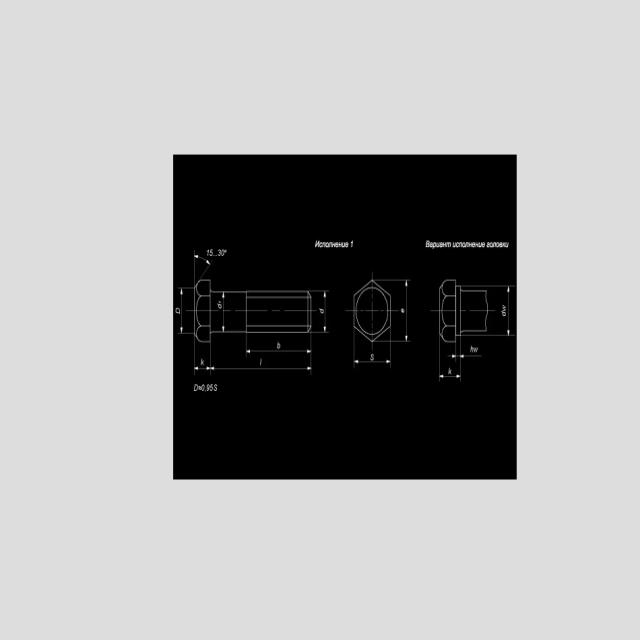marking_line: (211, 367, 310, 371), (246, 349, 311, 353), (354, 359, 390, 366), (405, 283, 409, 342), (507, 288, 511, 336), (180, 290, 184, 333), (221, 293, 225, 331), (324, 292, 327, 333), (462, 354, 483, 358), (440, 375, 460, 379), (195, 366, 209, 371), (446, 353, 457, 358)
numeric: (206, 247, 227, 258), (201, 383, 214, 392)
special_symbol: (189, 255, 214, 279)
